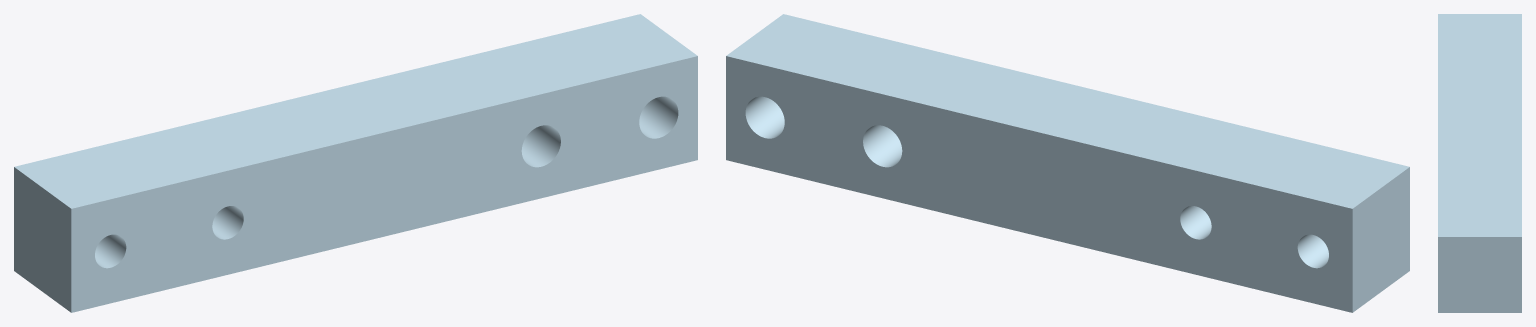
The model's file is loadcell.gltf.
The picture shows the model from 3 angles, left to right: view 1: azimuth 30°, elevation 25°; view 2: azimuth 150°, elevation 25°; view 3: azimuth 270°, elevation 25°; orthographic projection. The views are drawn at different scales.
Parts seen in each view (by area): view 1: loadcell; view 2: loadcell; view 3: loadcell.
Boxes of the visible parts, bbox=[...] form: loadcell: bbox=[14, 14, 697, 312]; loadcell: bbox=[726, 14, 1409, 312]; loadcell: bbox=[1438, 14, 1521, 312].
Bounding box in the file's own units: 0.08 × 0.0127 × 0.0127.
